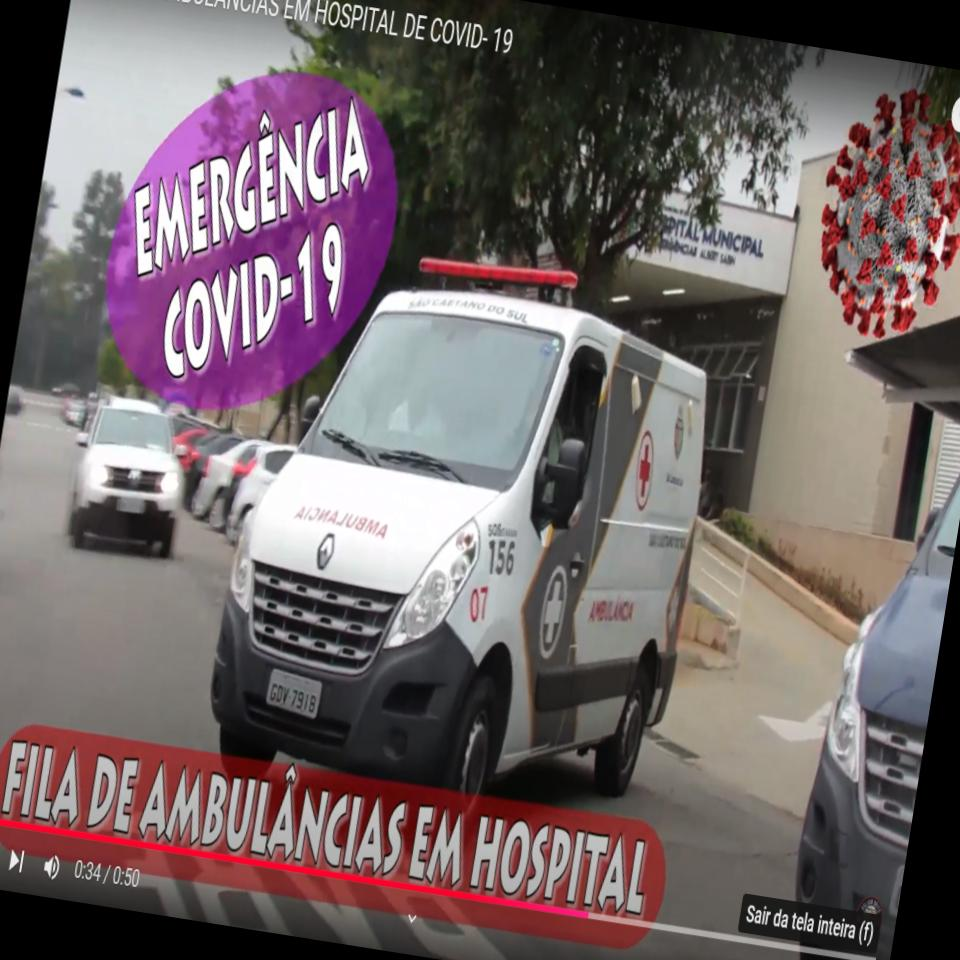bombeiro: (201, 219, 739, 822)
